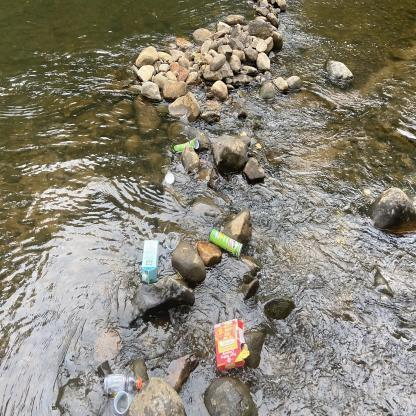trash: (212, 316, 250, 374), (138, 236, 162, 289), (208, 227, 245, 260), (102, 372, 144, 396), (112, 389, 134, 416), (172, 137, 201, 153), (165, 231, 182, 252), (160, 170, 178, 189)
